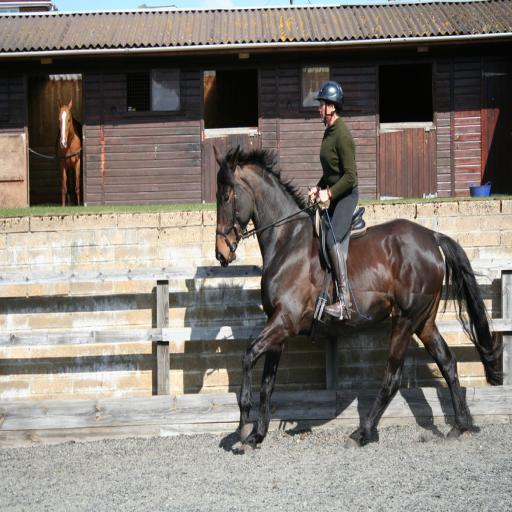horse: (209, 145, 509, 454), (56, 98, 82, 204)
